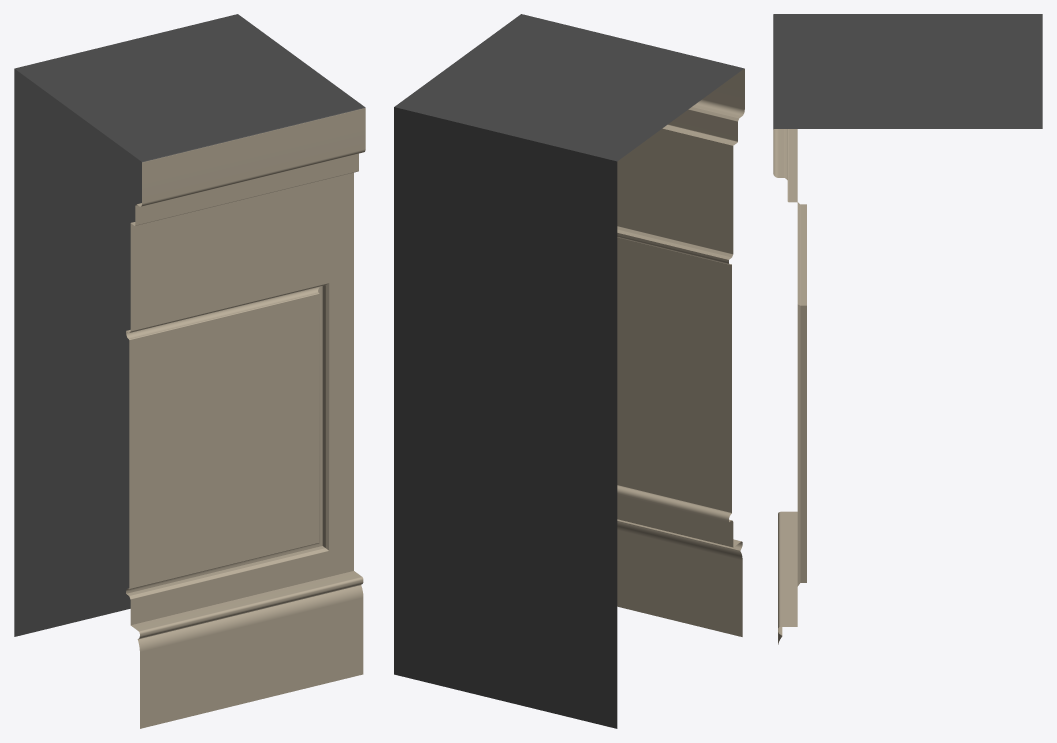
File: Wallset_02.1.08.fbx
3 renders of one model, left to right at view 1: azimuth 30°, elevation 25°; view 2: azimuth 150°, elevation 25°; view 3: azimuth 270°, elevation 25°, orthographic. The views are drawn at different scales.
Parts seen in each view (by area): view 1: polySurface11; view 2: polySurface11; view 3: polySurface11.
Part boxes in pixels (x1,y1,x2,y2): polySurface11: [14, 14, 365, 728]; polySurface11: [394, 14, 744, 728]; polySurface11: [773, 14, 1042, 644].
Size of the model in its own units: 100 by 243 by 98.98.
